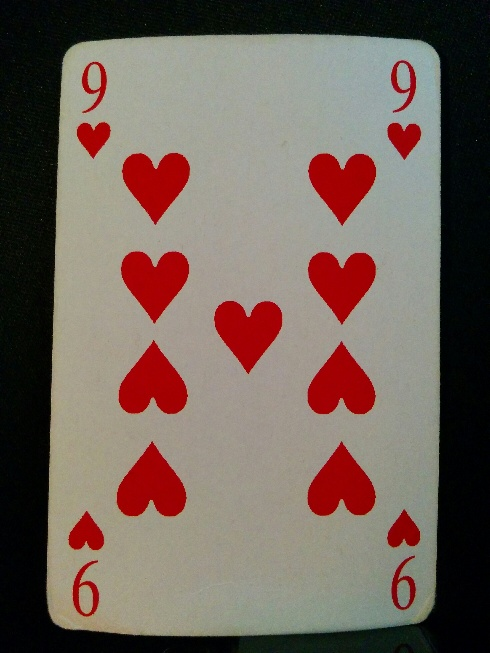H9: (381, 52, 430, 163), (380, 501, 426, 612), (66, 505, 108, 619), (74, 55, 116, 158)
